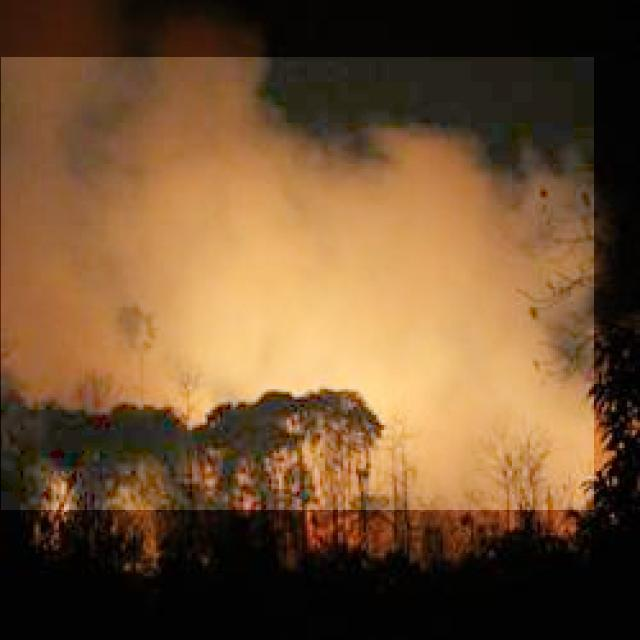Smoke: (1, 57, 594, 510)
